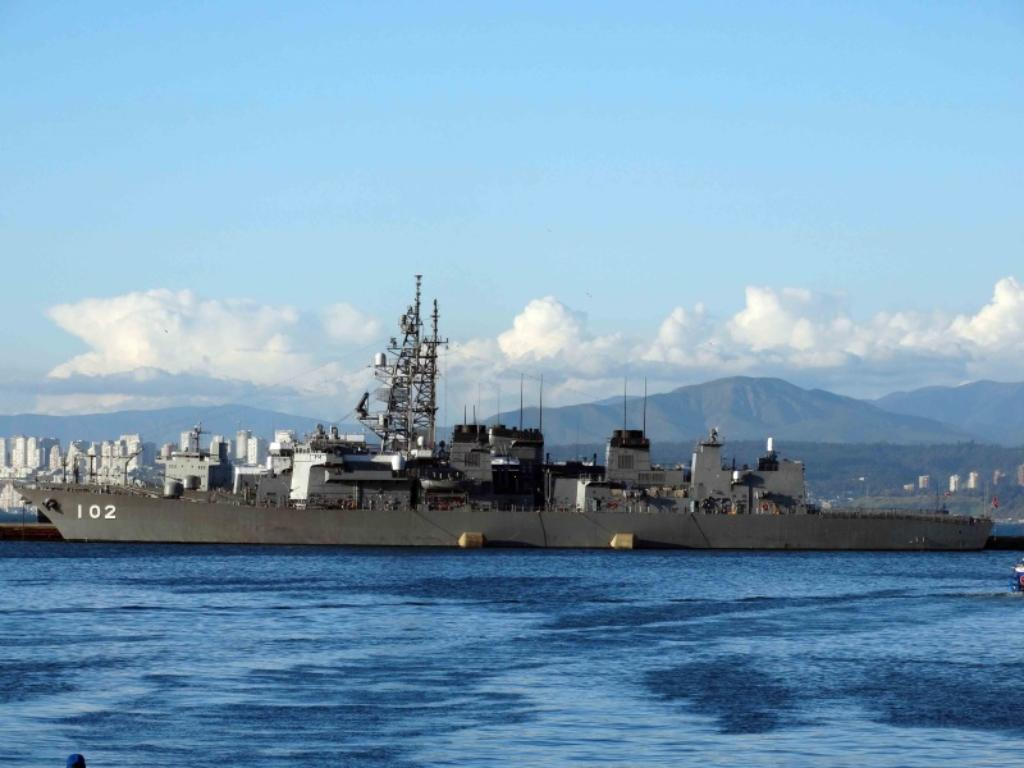Warship: (9, 270, 997, 554)
